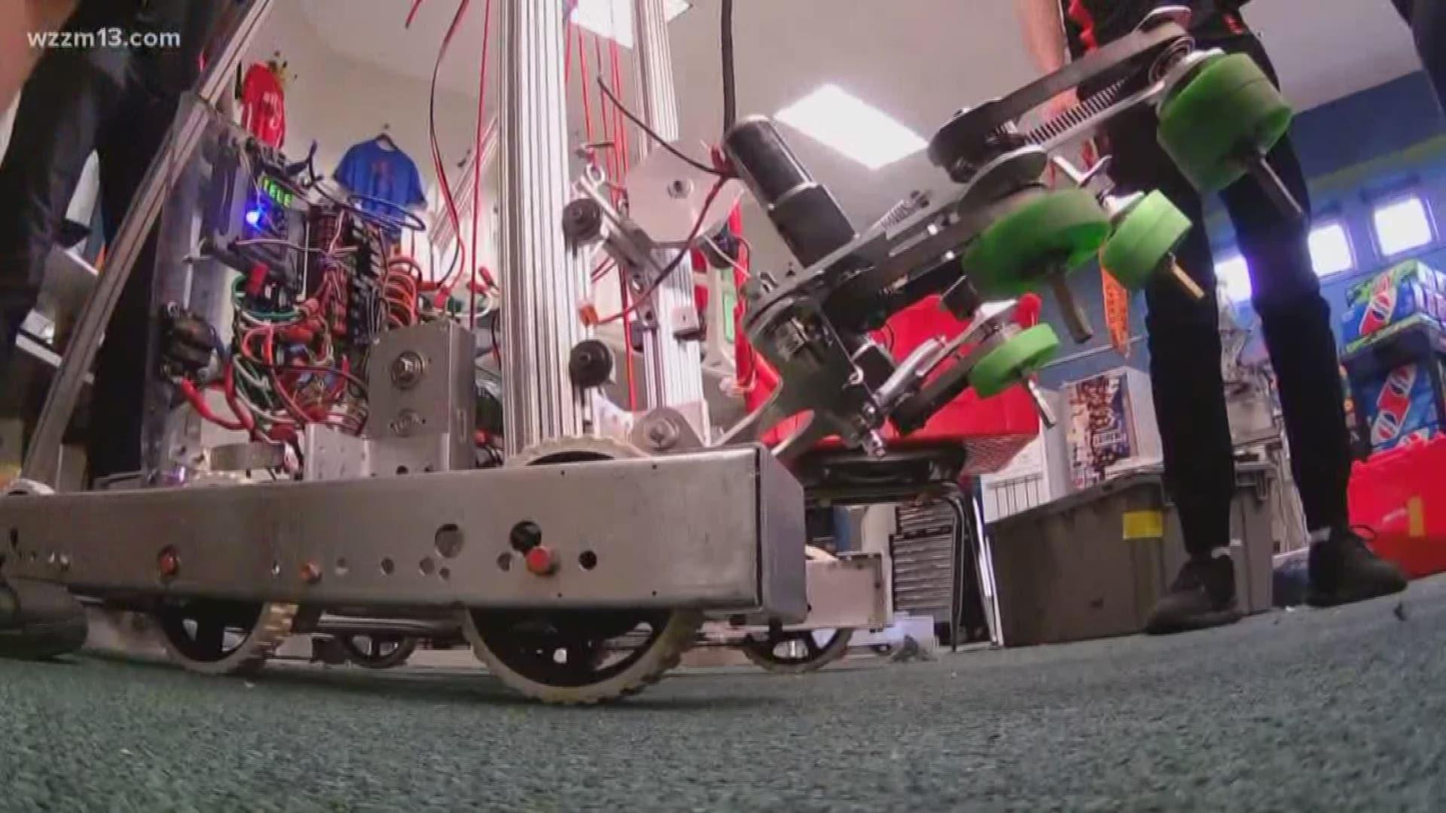robot: (0, 0, 1319, 709)
